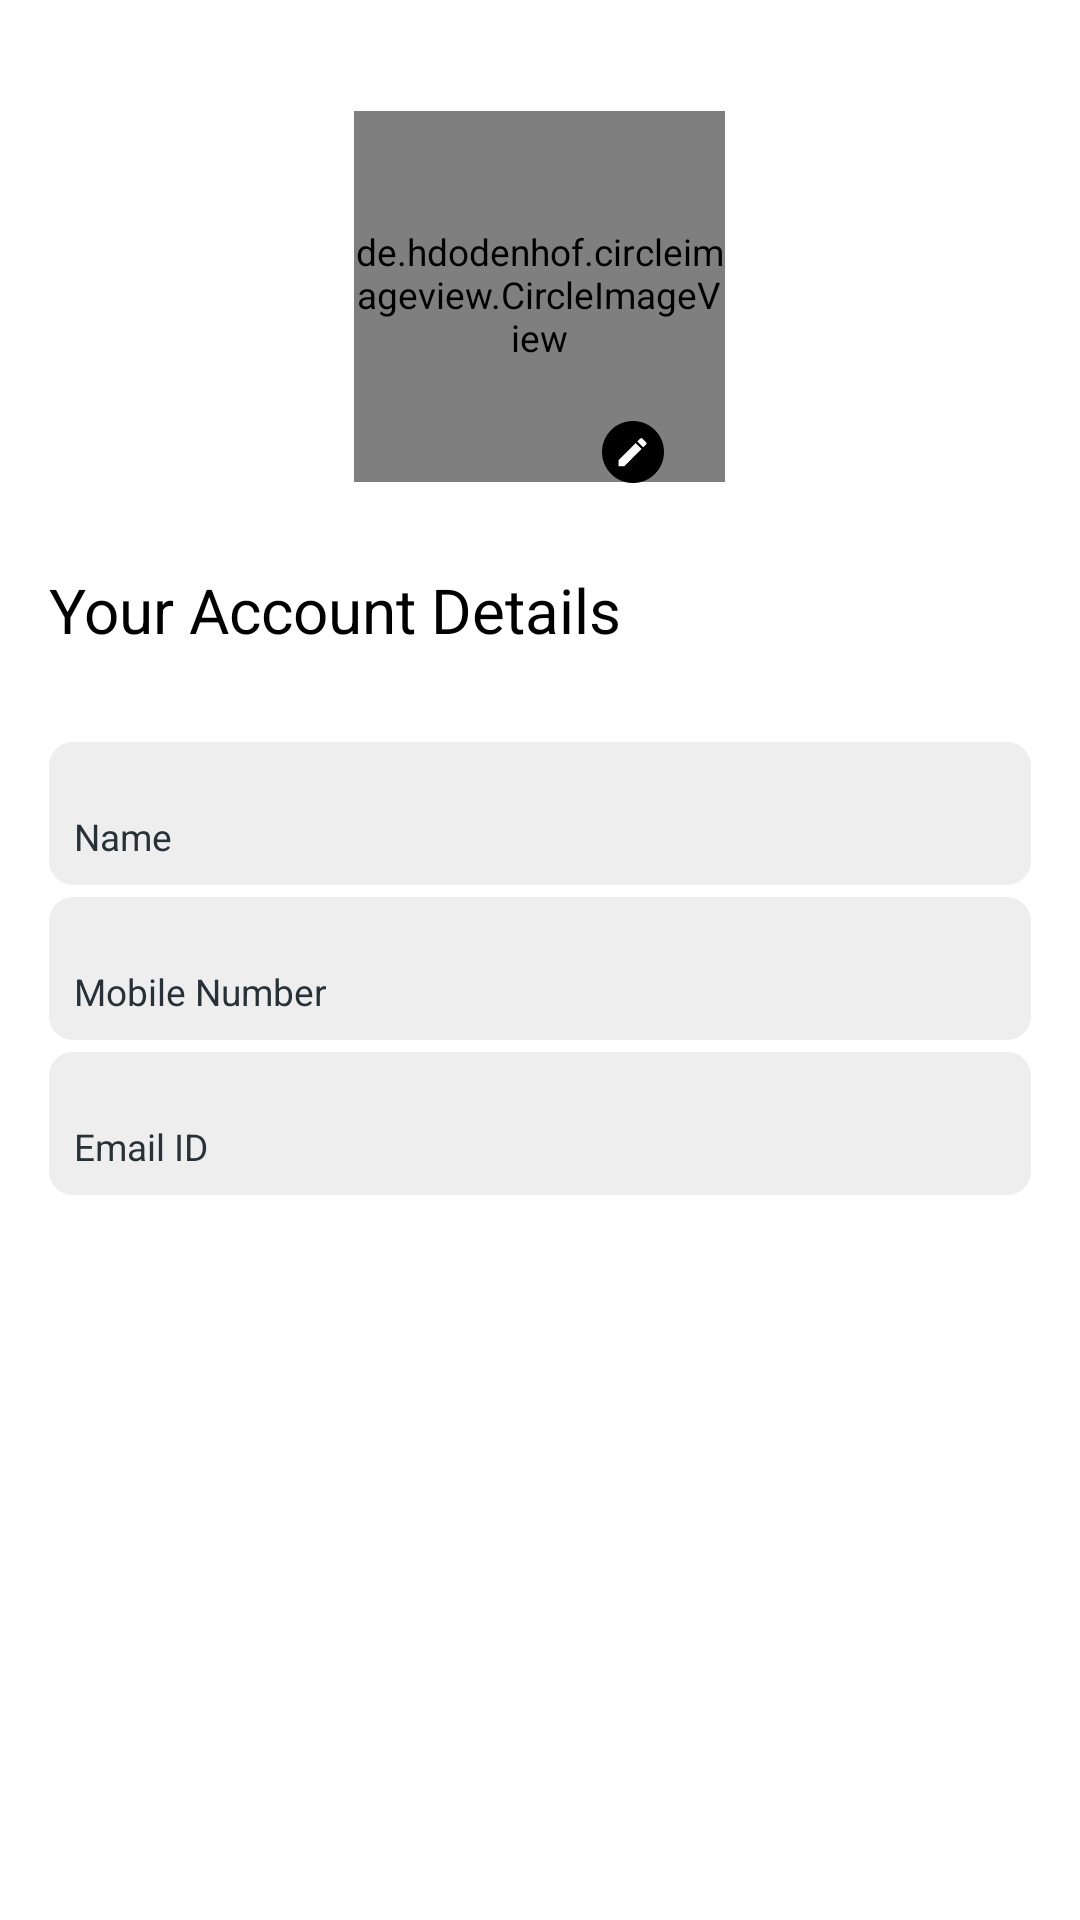

Screen size 1080×1920. Icon name, then its center in pixels as (x,y):
edit proflle: (633,452)
